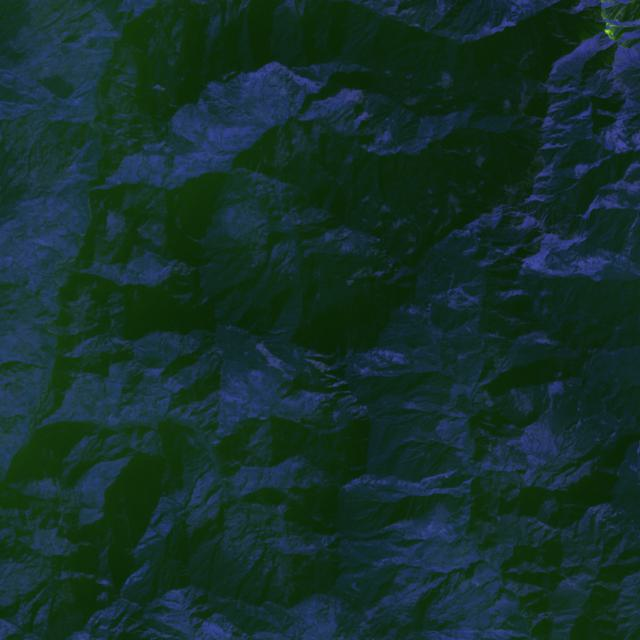landslides: (34, 239, 66, 260), (617, 255, 628, 275), (515, 0, 526, 18), (497, 629, 514, 640), (144, 369, 161, 378), (269, 62, 284, 72)
